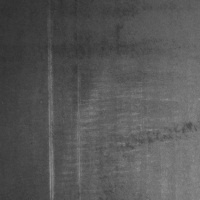scratches: (46, 19, 58, 197)
